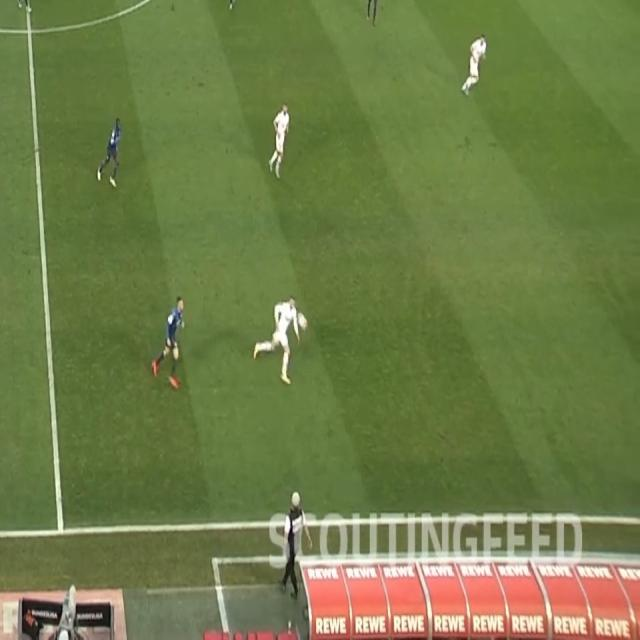ball: (297, 310, 308, 332)
